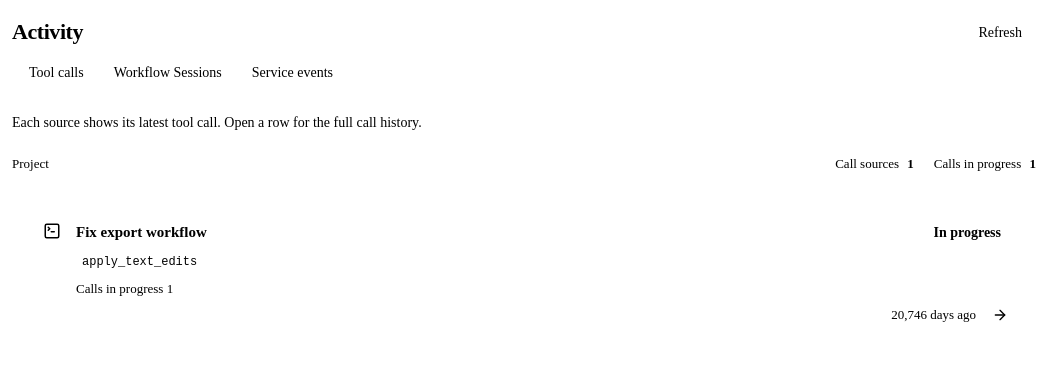
product workspace task flows › retains the complete empty Session history message
This screenshot has width=1048, height=378.
Check: the button "Fix export workflow" is shown, box left=28, top=202, right=1020, bottom=341
Click the tab "Workflow Sessions".
click(168, 72)  # box left=100, top=55, right=236, bottom=89
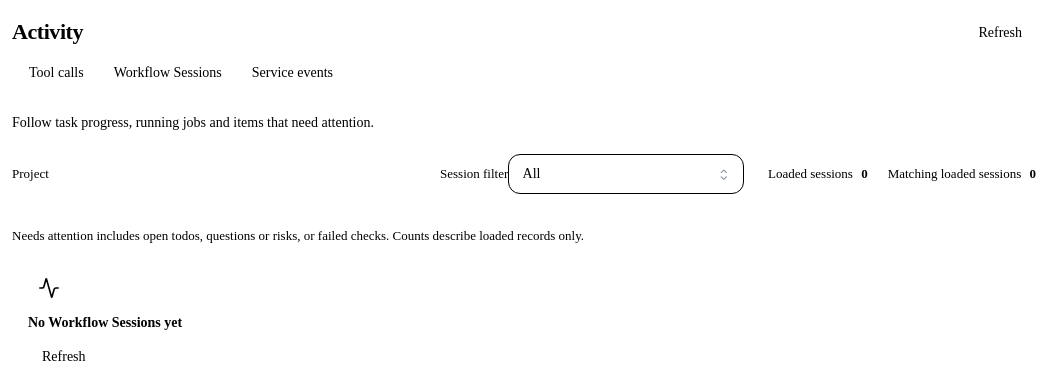
Check: the text "No Workflow Sessions yet" is shown, box left=28, top=315, right=182, bottom=330
